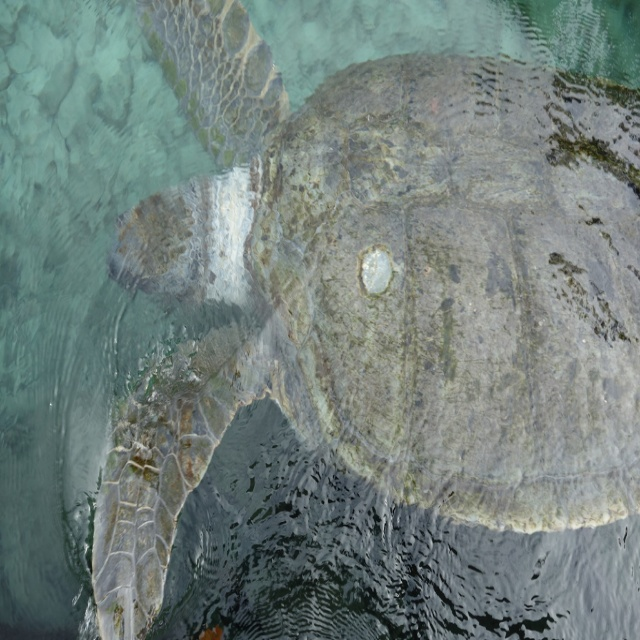Sea turtle: (91, 0, 640, 640)
